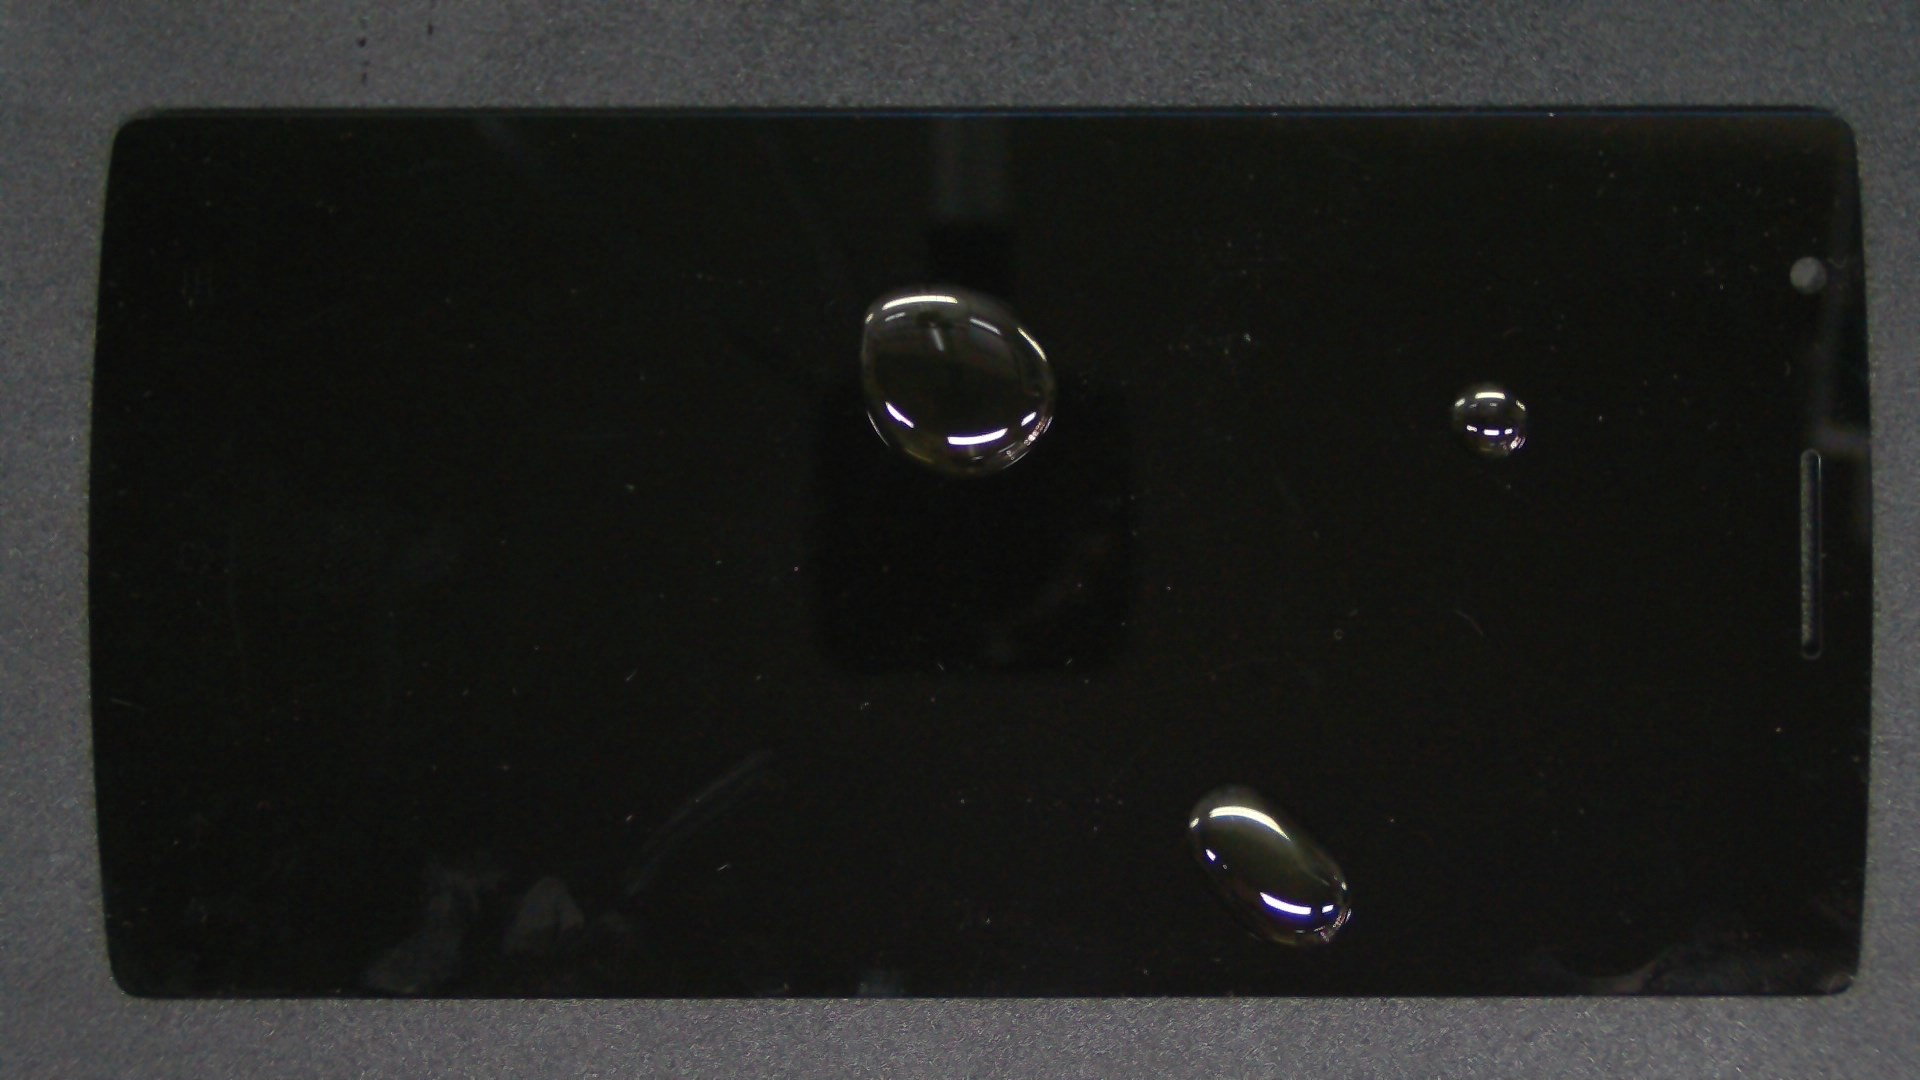oil: (613, 393, 1837, 1080), (742, 190, 1920, 572), (463, 141, 1387, 426)
